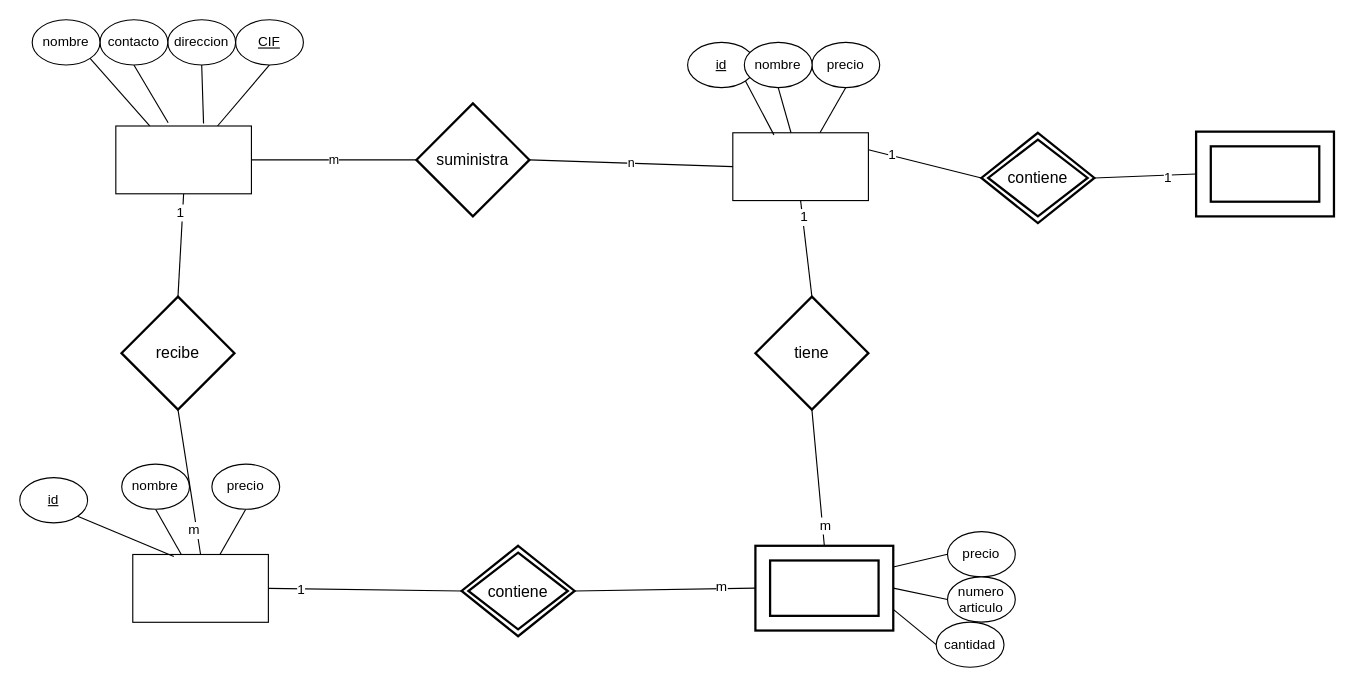
Some shapes in this 1355 by 687 pixel diagram are drawn without their labels. The centre of each missing label's shape, as x and y in pixels:
Articulo: (800,166)
Item: (824,587)
pedido: (200,587)
Proveedor: (183,159)
registro: (1264,173)
